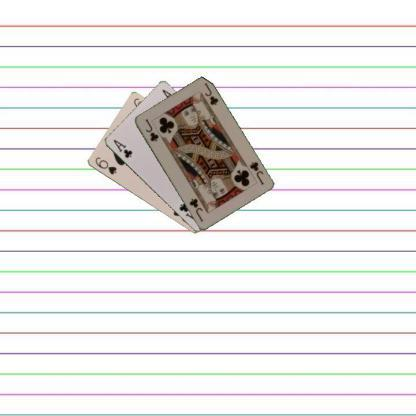6s: (92, 154, 118, 176)
Ac: (110, 136, 134, 160)
Jc: (242, 159, 265, 186), (142, 116, 160, 142)
